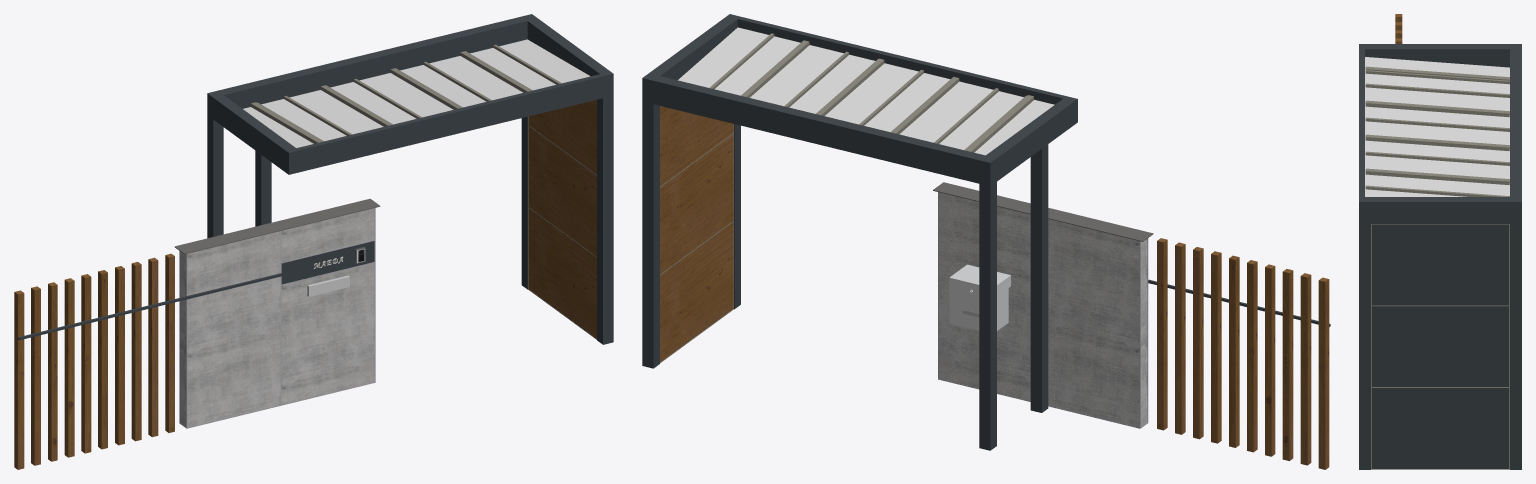
The model's file is hy20-e_matdarkgrey.fbx.
The picture shows the model from 3 angles, left to right: view 1: azimuth 30°, elevation 25°; view 2: azimuth 150°, elevation 25°; view 3: azimuth 270°, elevation 25°; orthographic projection. The views are drawn at different scales.
Visible parts, largest first — view 1: hy20-e_mat-d-gray; view 2: hy20-e_mat-d-gray; view 3: hy20-e_mat-d-gray.
Boxes of the visible parts, x1,y1,x2,y2 form: hy20-e_mat-d-gray: [14, 14, 613, 469]; hy20-e_mat-d-gray: [642, 14, 1330, 469]; hy20-e_mat-d-gray: [1359, 14, 1521, 469].
Size of the model in its own units: 551 by 245 by 135.
19 materials, 10 textured.
